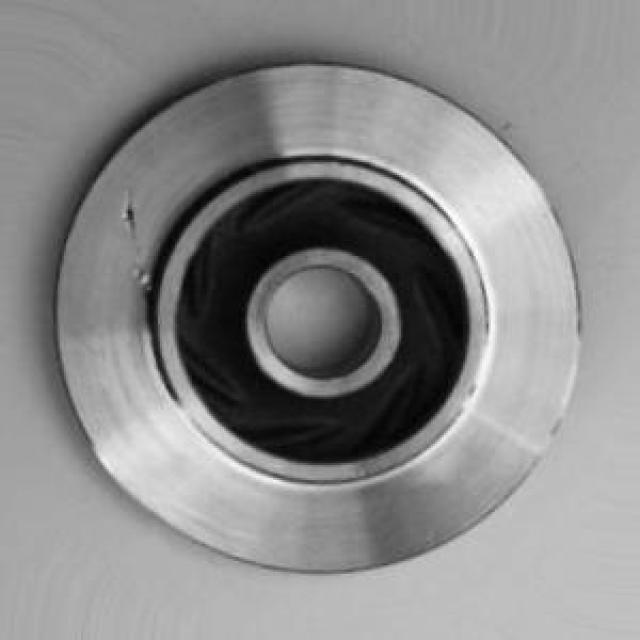Defect: (129, 263, 162, 299), (117, 195, 146, 234)
